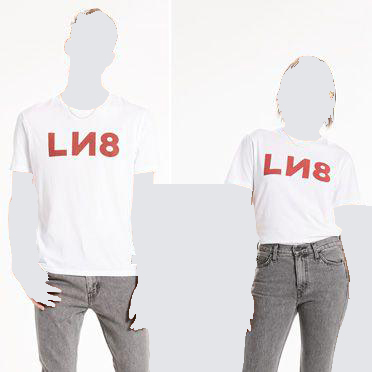teeshirt: (8, 91, 160, 282), (221, 130, 363, 249)
